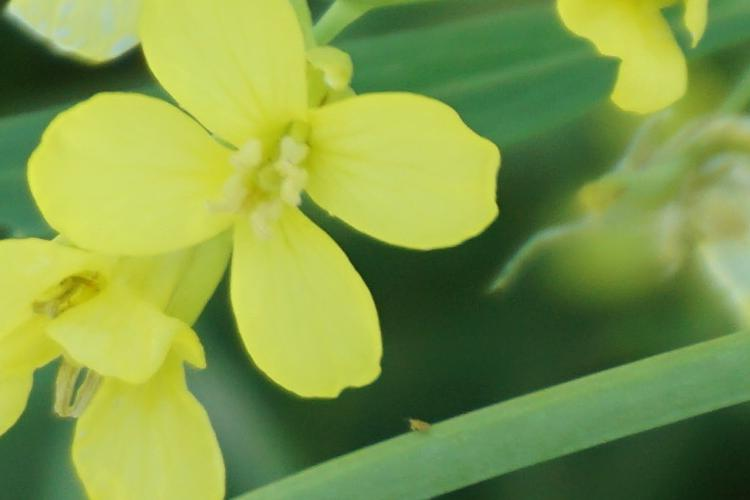yellow: (24, 2, 494, 395), (2, 236, 228, 500), (557, 2, 715, 117)
